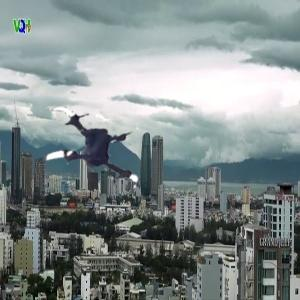drone: (30, 95, 147, 212)
